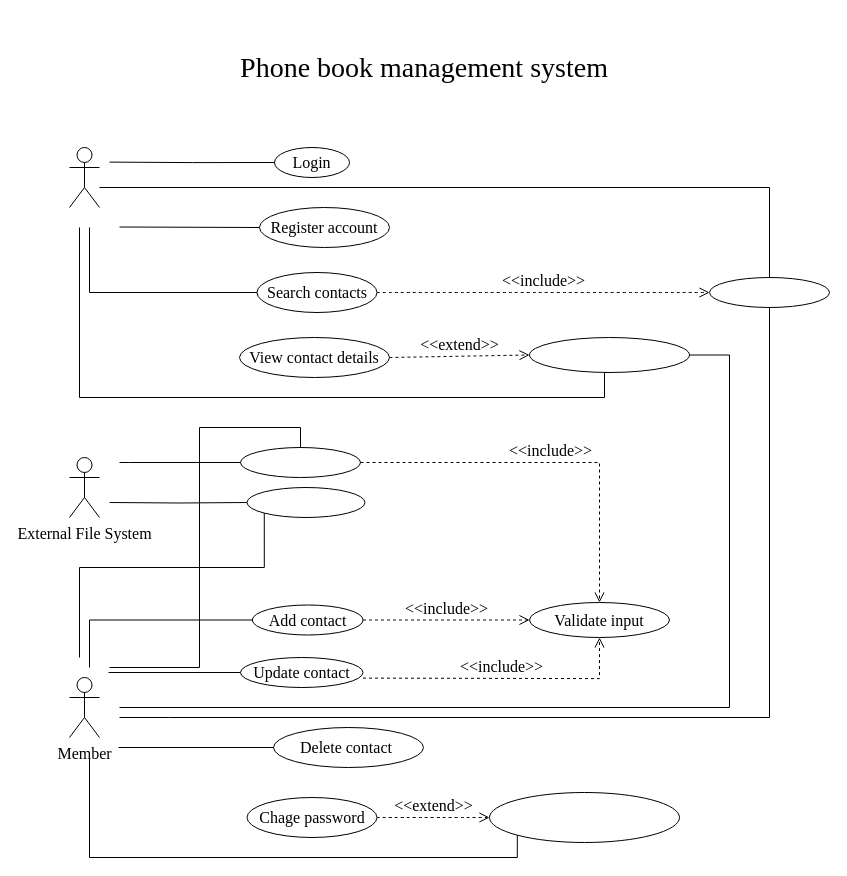
The diagram is 847 pixels wide and 876 high, and some of its shapes have lost their labels. Each missing label, with the box of its shape:
Dial phone number: (528, 336, 690, 372)
Export contacts: (246, 486, 365, 518)
Guest: (68, 146, 100, 208)
Import contacts: (240, 446, 360, 478)
Update account information: (488, 792, 680, 842)
View contacts: (708, 276, 830, 308)
